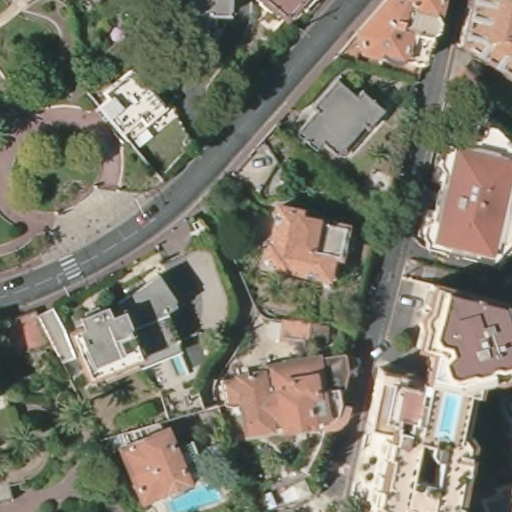pool: (166, 479, 220, 509), (440, 390, 463, 443)
